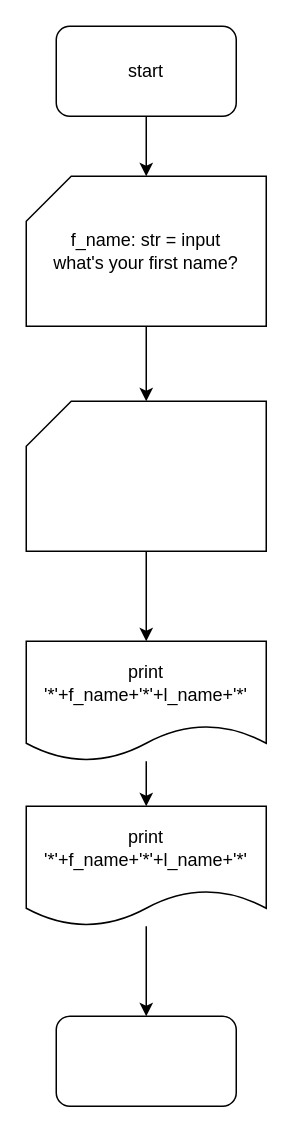
The diagram is 293 pixels wide and 1133 high, and some of its shapes have lost their labels. Each missing label, with the centre of its shape:
end: the point at 145,1060
l_name: str = input what's your last name?: the point at 145,475
